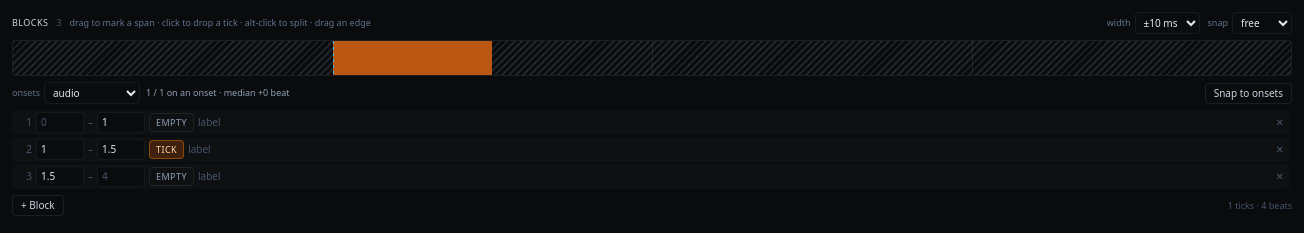
Test: BoundarySegmentEditor › waits for a source that is still loading instead of scoring it at zero
Select "audio · drums" in the dropdown labelled "onsets" at (92, 93), box [44, 82, 140, 104]
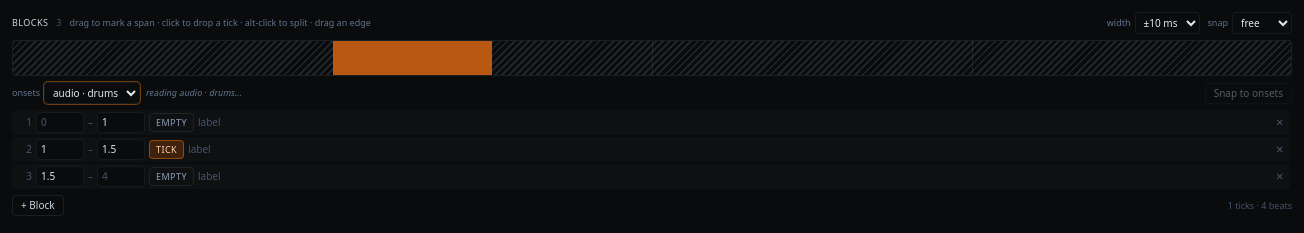
expect the text "reading audio · drums…" is shown: met, box [146, 86, 242, 100]
expect the text "on an onset" is gone: met
expect the button "Snap to onsets" is disabled: met, box [1205, 82, 1292, 104]
